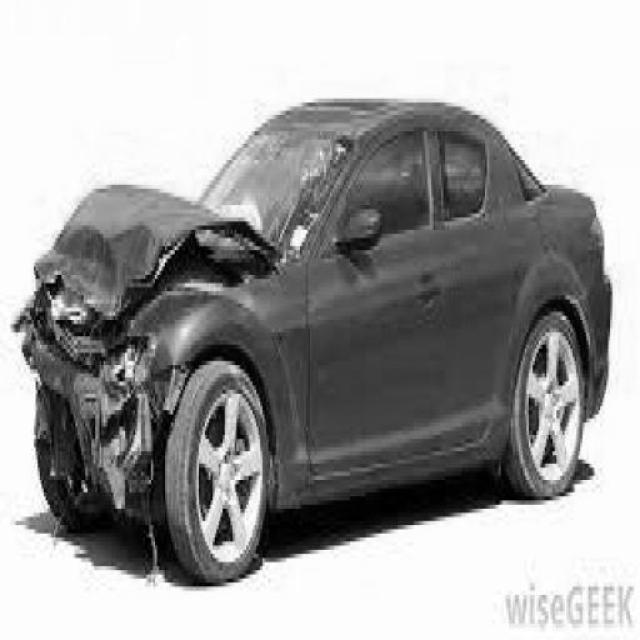crush: (12, 183, 306, 528)
